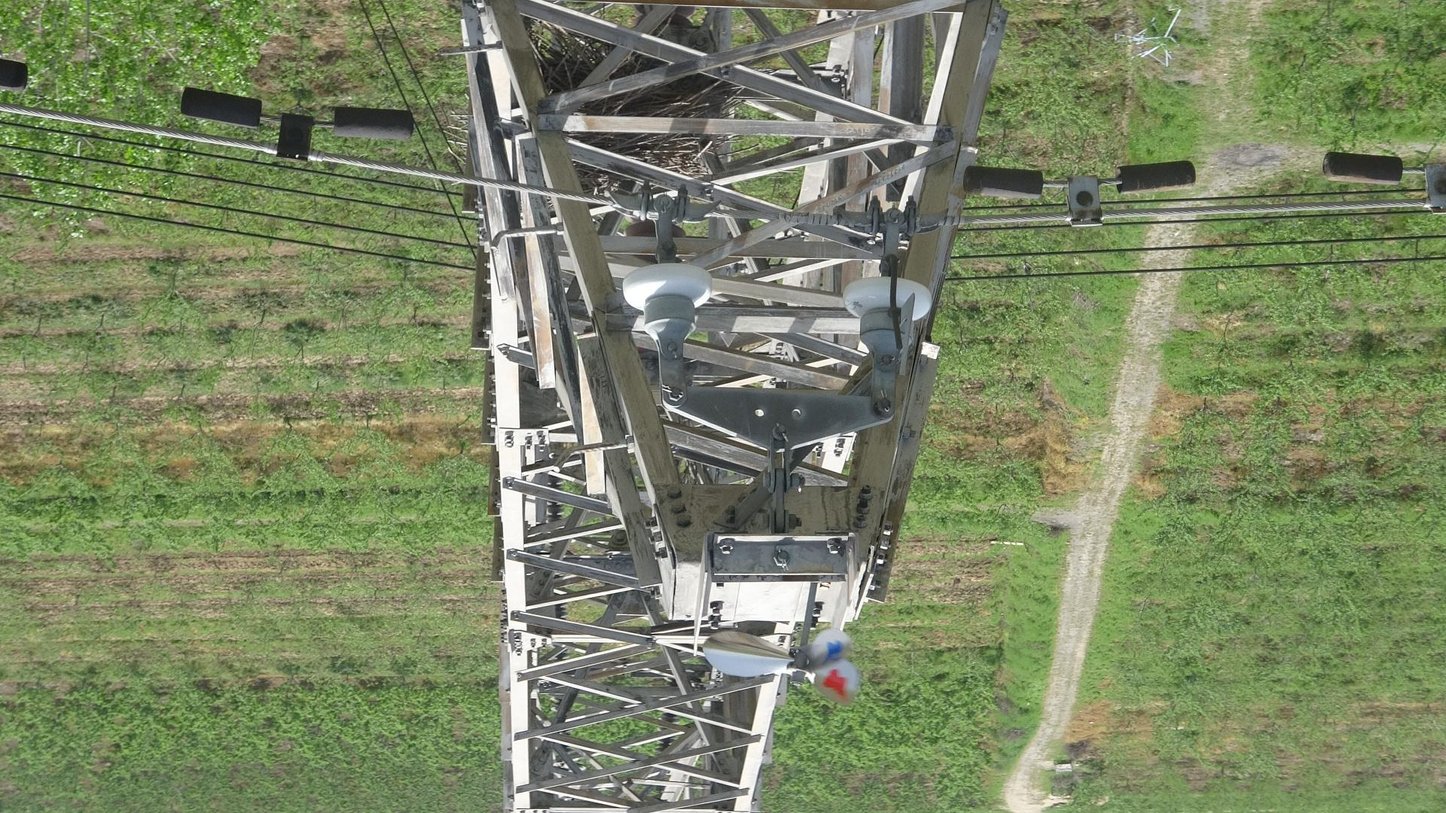damper: (172, 80, 422, 168), (956, 155, 1204, 233)
nest: (532, 23, 743, 199)
